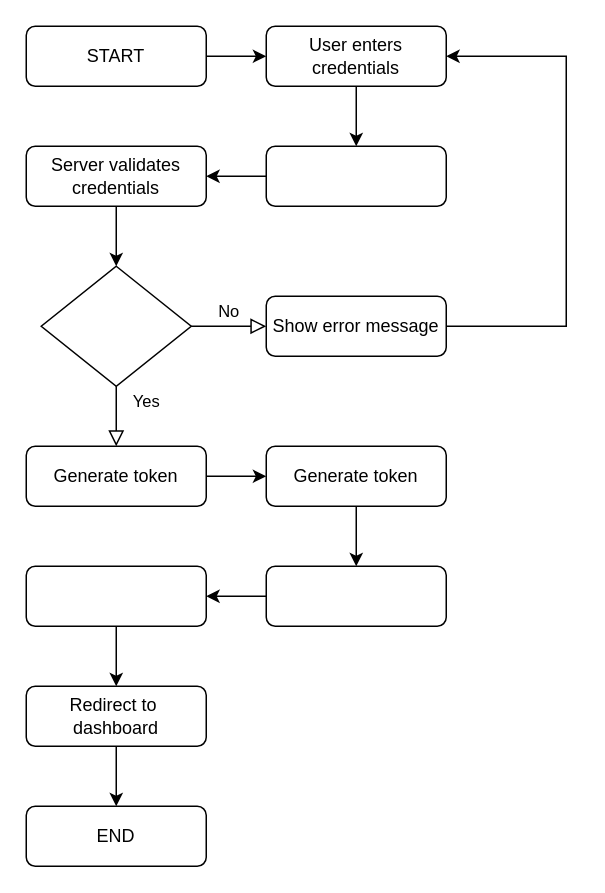
This 605x893 diagram has some shape labels left out. The box of each missing label's shape, as (x1, y1, x2, y2) in pixels:
Credentials valid?: (40, 265, 191, 386)
Send token to client: (265, 565, 446, 626)
Sends credentials to server: (265, 145, 446, 206)
Store token in client: (25, 565, 206, 626)
